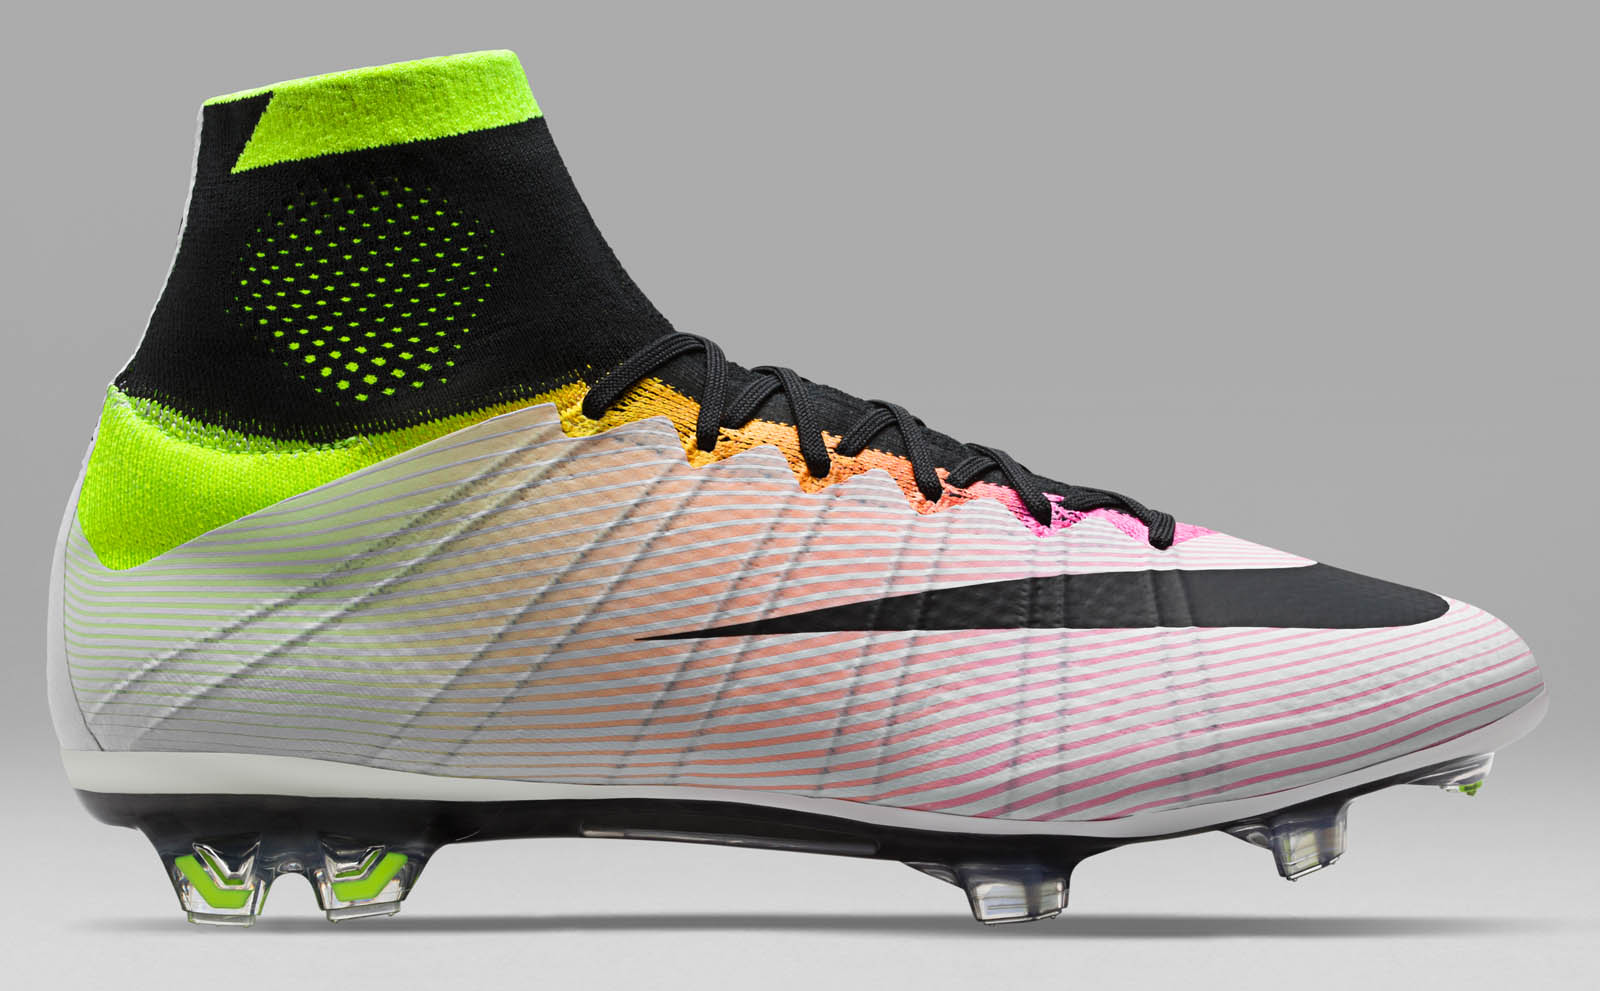football boots: (47, 48, 1546, 925)
